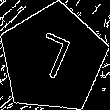L_SW: (29, 29, 77, 88)
